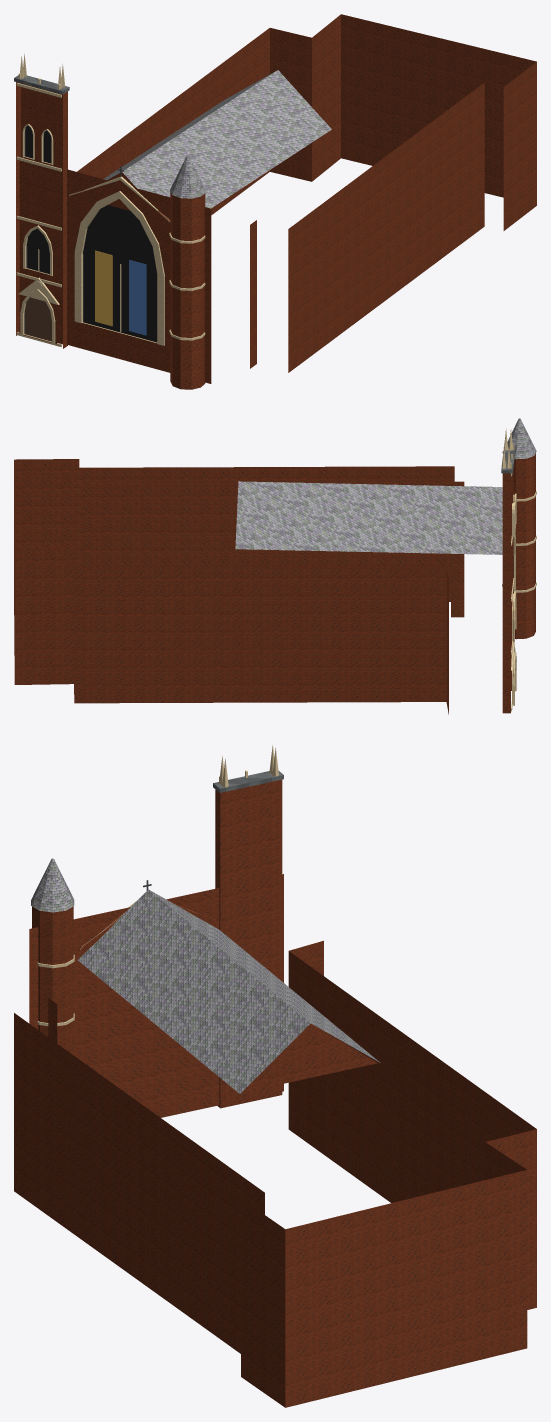
3 views of the same model, one above another, from view 1: azimuth 30°, elevation 25°; view 2: azimuth 150°, elevation 25°; view 3: azimuth 270°, elevation 25° (orthographic). The views are drawn at different scales.
Visible parts, largest first — view 1: bldg_453577567_landmark; view 2: bldg_453577567_landmark; view 3: bldg_453577567_landmark.
Part boxes in pixels (bbox=[...]): bldg_453577567_landmark: bbox=[14, 14, 536, 389]; bldg_453577567_landmark: bbox=[14, 418, 536, 714]; bldg_453577567_landmark: bbox=[14, 745, 536, 1407].
Size of the model in its own units: 46.62 by 23.85 by 32.38.
Materials: 10 (4 with a texture image).
